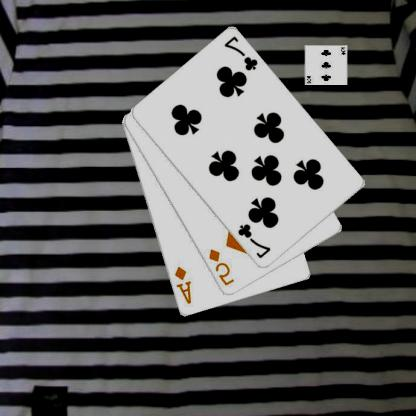5D: (207, 247, 237, 288)
7C: (236, 221, 274, 260), (223, 34, 261, 72)
AD: (174, 264, 194, 306)
